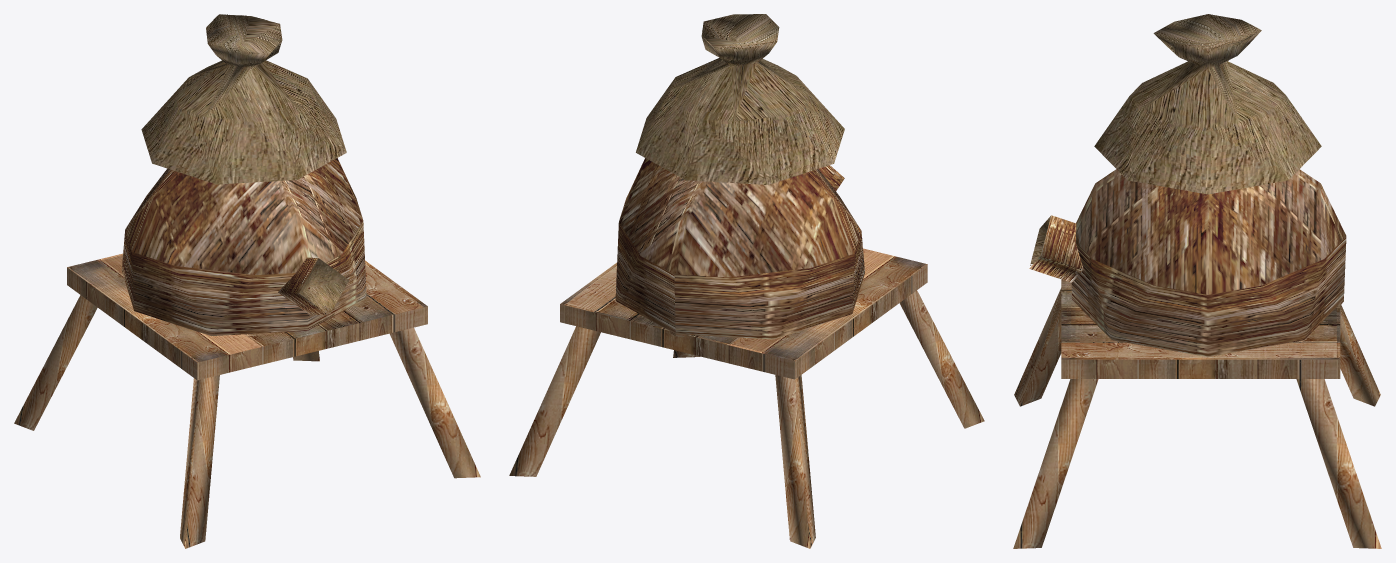
File: building_beehive.glb
3 renders of one model, left to right at view 1: azimuth 30°, elevation 25°; view 2: azimuth 150°, elevation 25°; view 3: azimuth 270°, elevation 25°, orthographic. The views are drawn at different scales.
Visible parts, largest first — view 1: building_beehive; view 2: building_beehive; view 3: building_beehive.
Boxes of the visible parts, left/top/right/bottom form: building_beehive: left=14, top=14, right=480, bottom=548; building_beehive: left=509, top=14, right=984, bottom=548; building_beehive: left=1013, top=14, right=1381, bottom=548.
Size of the model in its own units: 1.9 by 2.55 by 1.92.
Materials: 3 (3 with a texture image).
